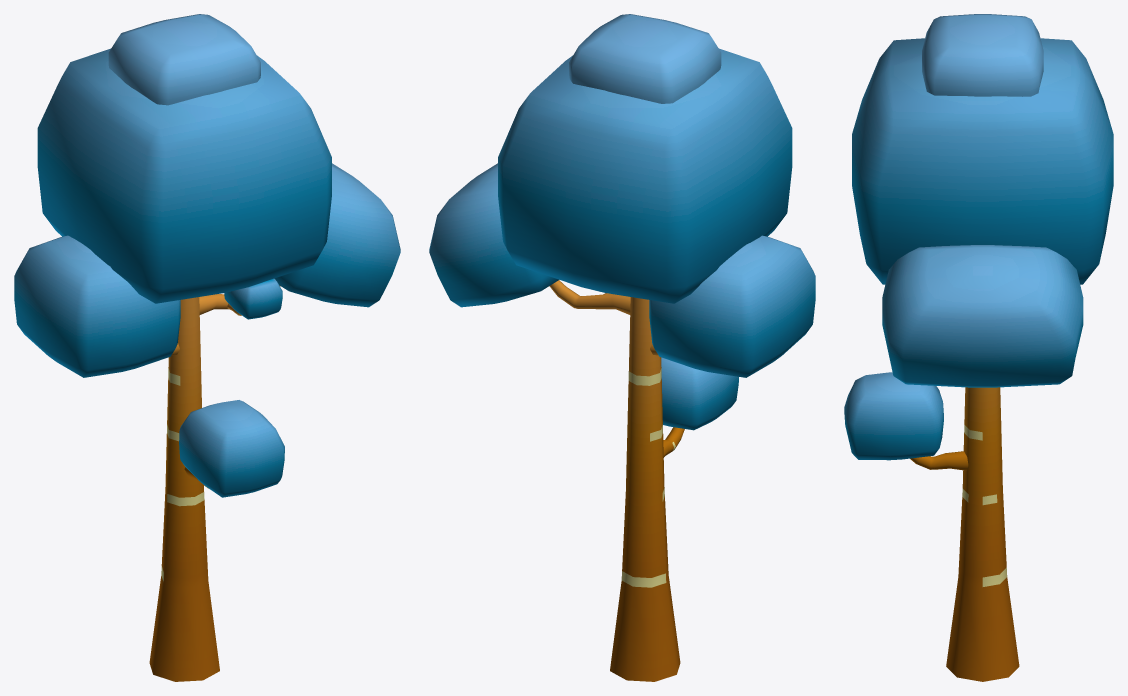
The model's file is blue-3.fbx.
3 views of the same model, side by side, from view 1: azimuth 30°, elevation 25°; view 2: azimuth 150°, elevation 25°; view 3: azimuth 270°, elevation 25° (orthographic).
Parts seen in each view (by area): view 1: Cylinder.003; view 2: Cylinder.003; view 3: Cylinder.003.
Part boxes in pixels (left/top/right/bottom): Cylinder.003: left=14, top=14, right=400, bottom=681; Cylinder.003: left=429, top=14, right=815, bottom=681; Cylinder.003: left=844, top=14, right=1113, bottom=681.
Size of the model in its own units: 124 by 233 by 89.07.
